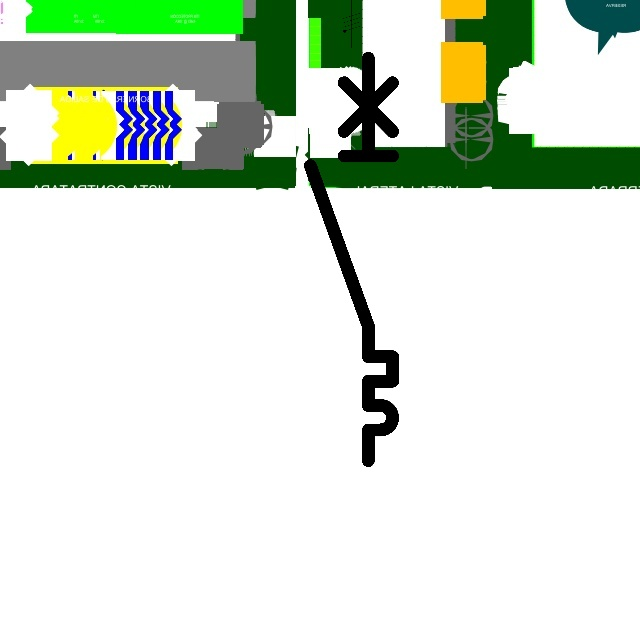interruptor_termomagnetico: (300, 47, 403, 470)
